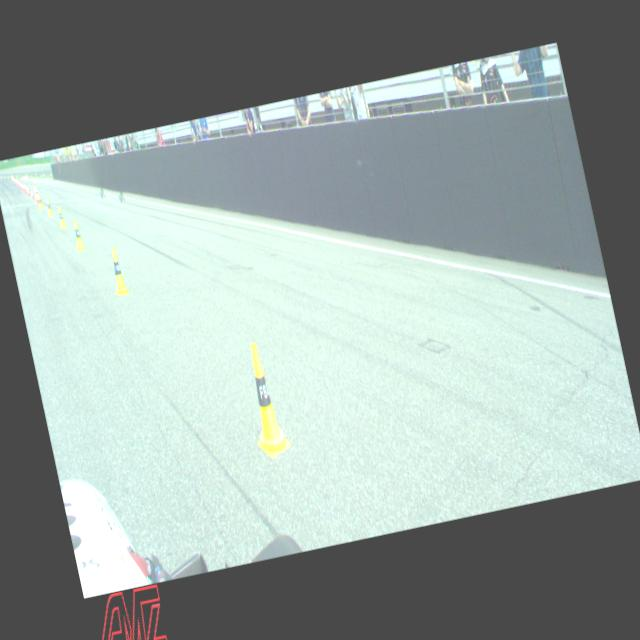large_orange_cone: (33, 182, 40, 202), (32, 182, 38, 204)
orange_cone: (30, 188, 34, 198), (26, 186, 30, 196), (24, 185, 28, 194)
yellow_cone: (237, 340, 292, 460), (106, 246, 129, 296), (71, 218, 85, 250), (56, 204, 66, 228), (45, 198, 53, 216), (36, 193, 44, 209)
